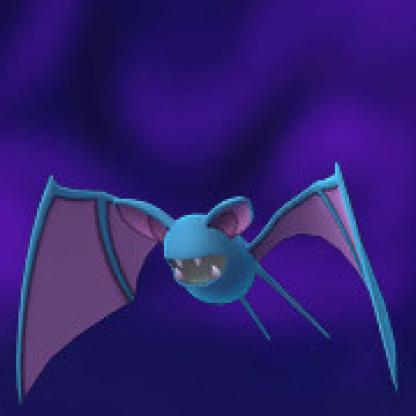Zubat: (1, 119, 415, 415)
